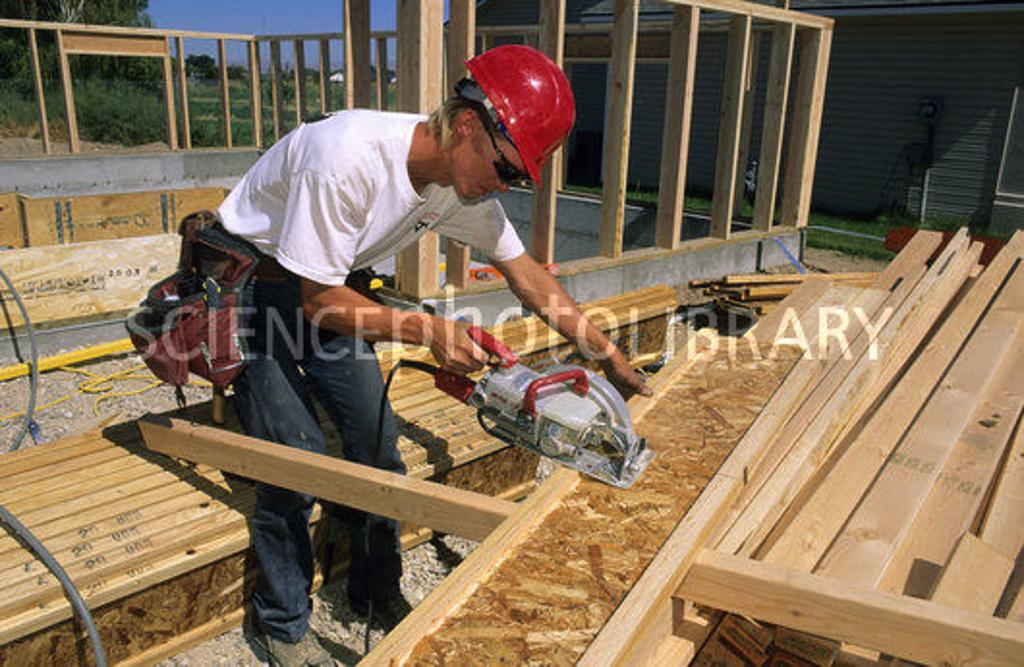face: (458, 120, 560, 202)
